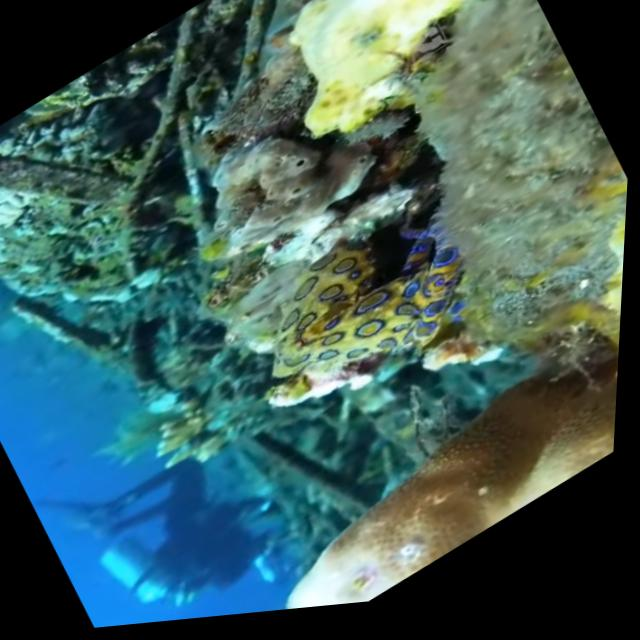blue_ringed_octopus: (231, 189, 500, 438)
